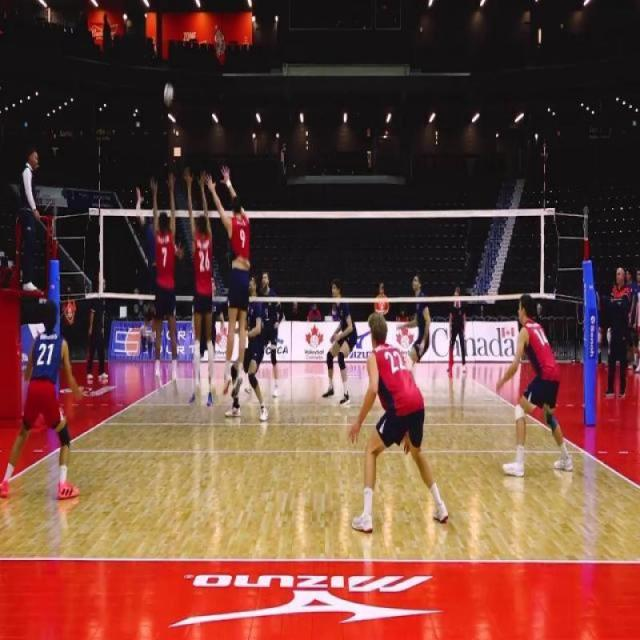volleyball: (163, 81, 174, 109)
